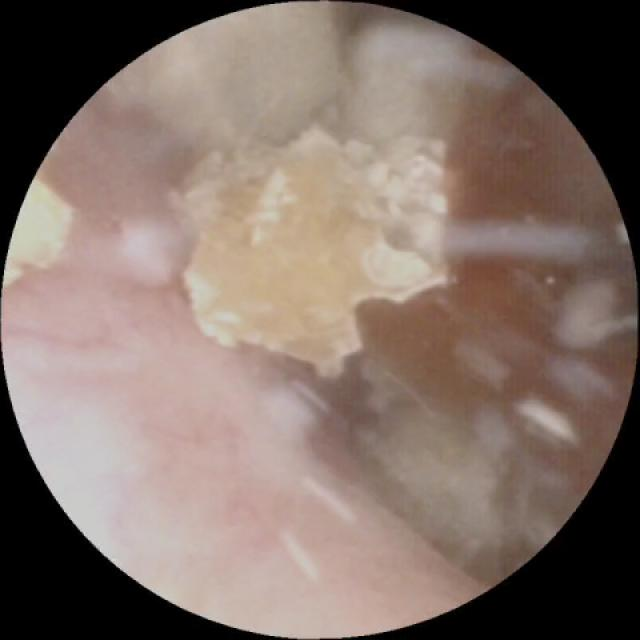stone: (171, 130, 452, 379), (9, 179, 72, 284)
tissue: (19, 107, 464, 618)
